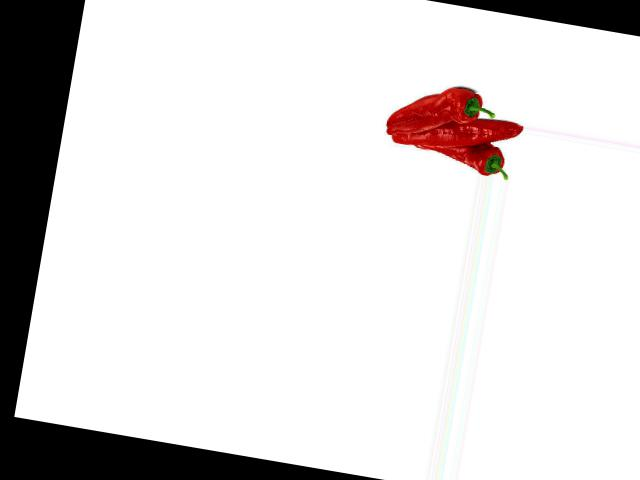bell_pepper: (385, 72, 501, 139)
